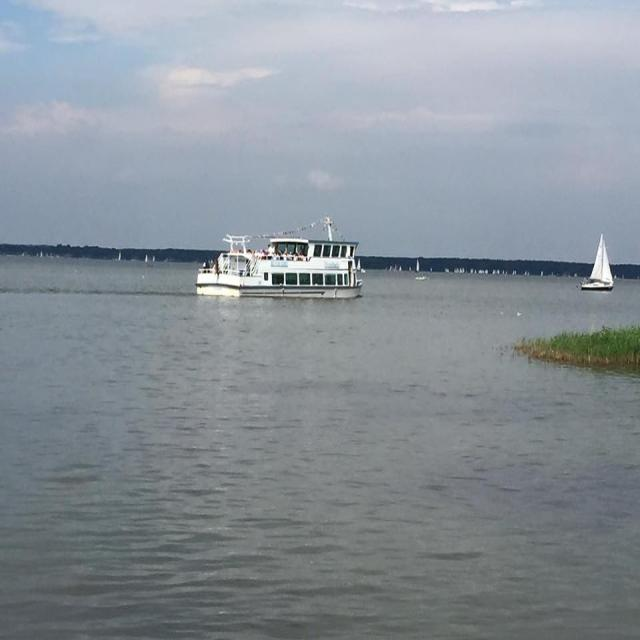houseboat: (199, 216, 370, 304)
sailboat: (571, 224, 614, 302)
